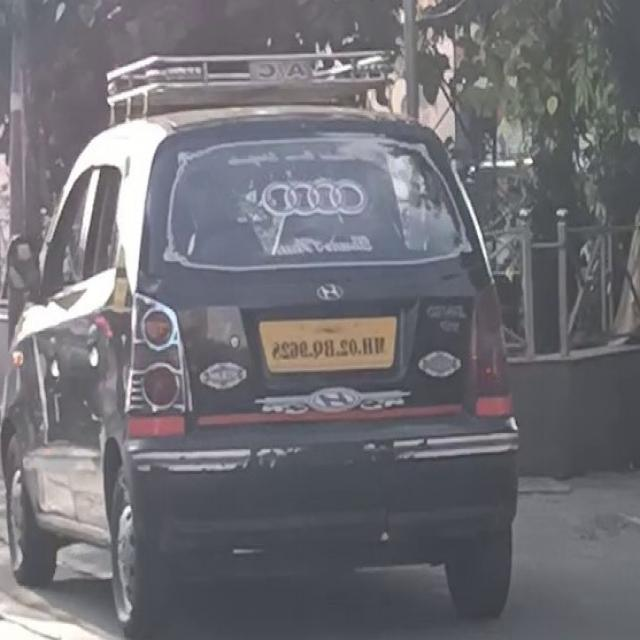license_plate: (255, 310, 402, 386)
